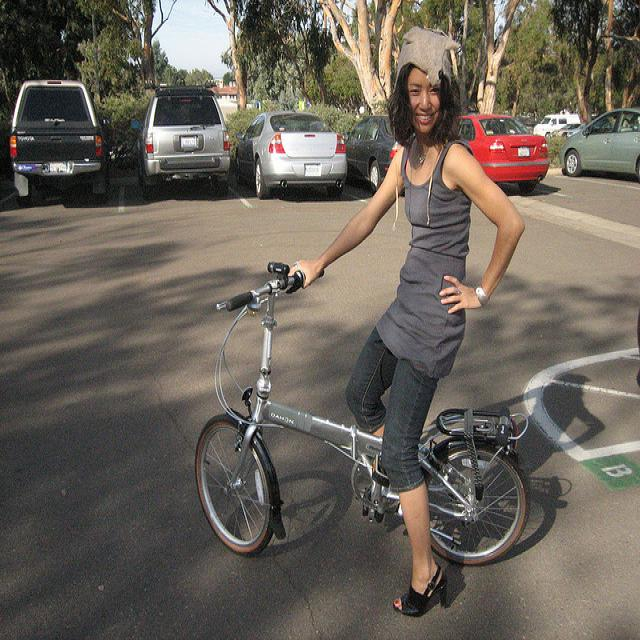Vehicle: (384, 113, 550, 196), (8, 77, 111, 210), (233, 107, 349, 203), (138, 86, 232, 193), (558, 106, 640, 179), (345, 116, 394, 195), (533, 114, 581, 138)
